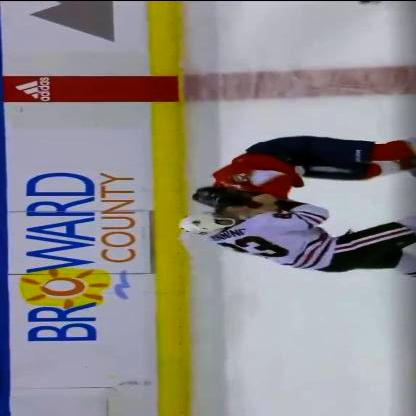voilence: (178, 134, 416, 272)
